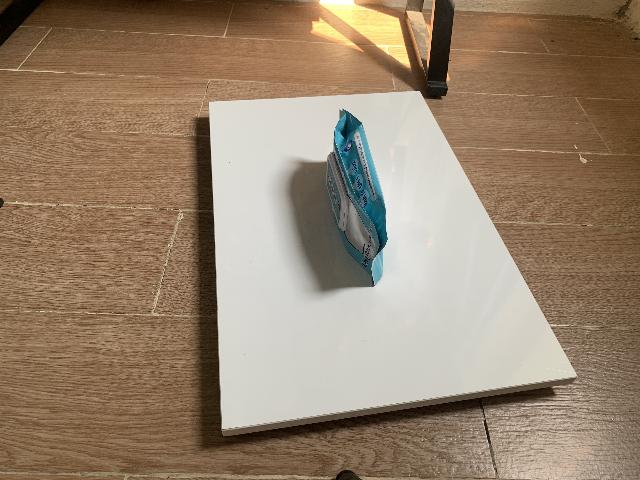Let-green_alcohol_wipes: (326, 112, 388, 275)
